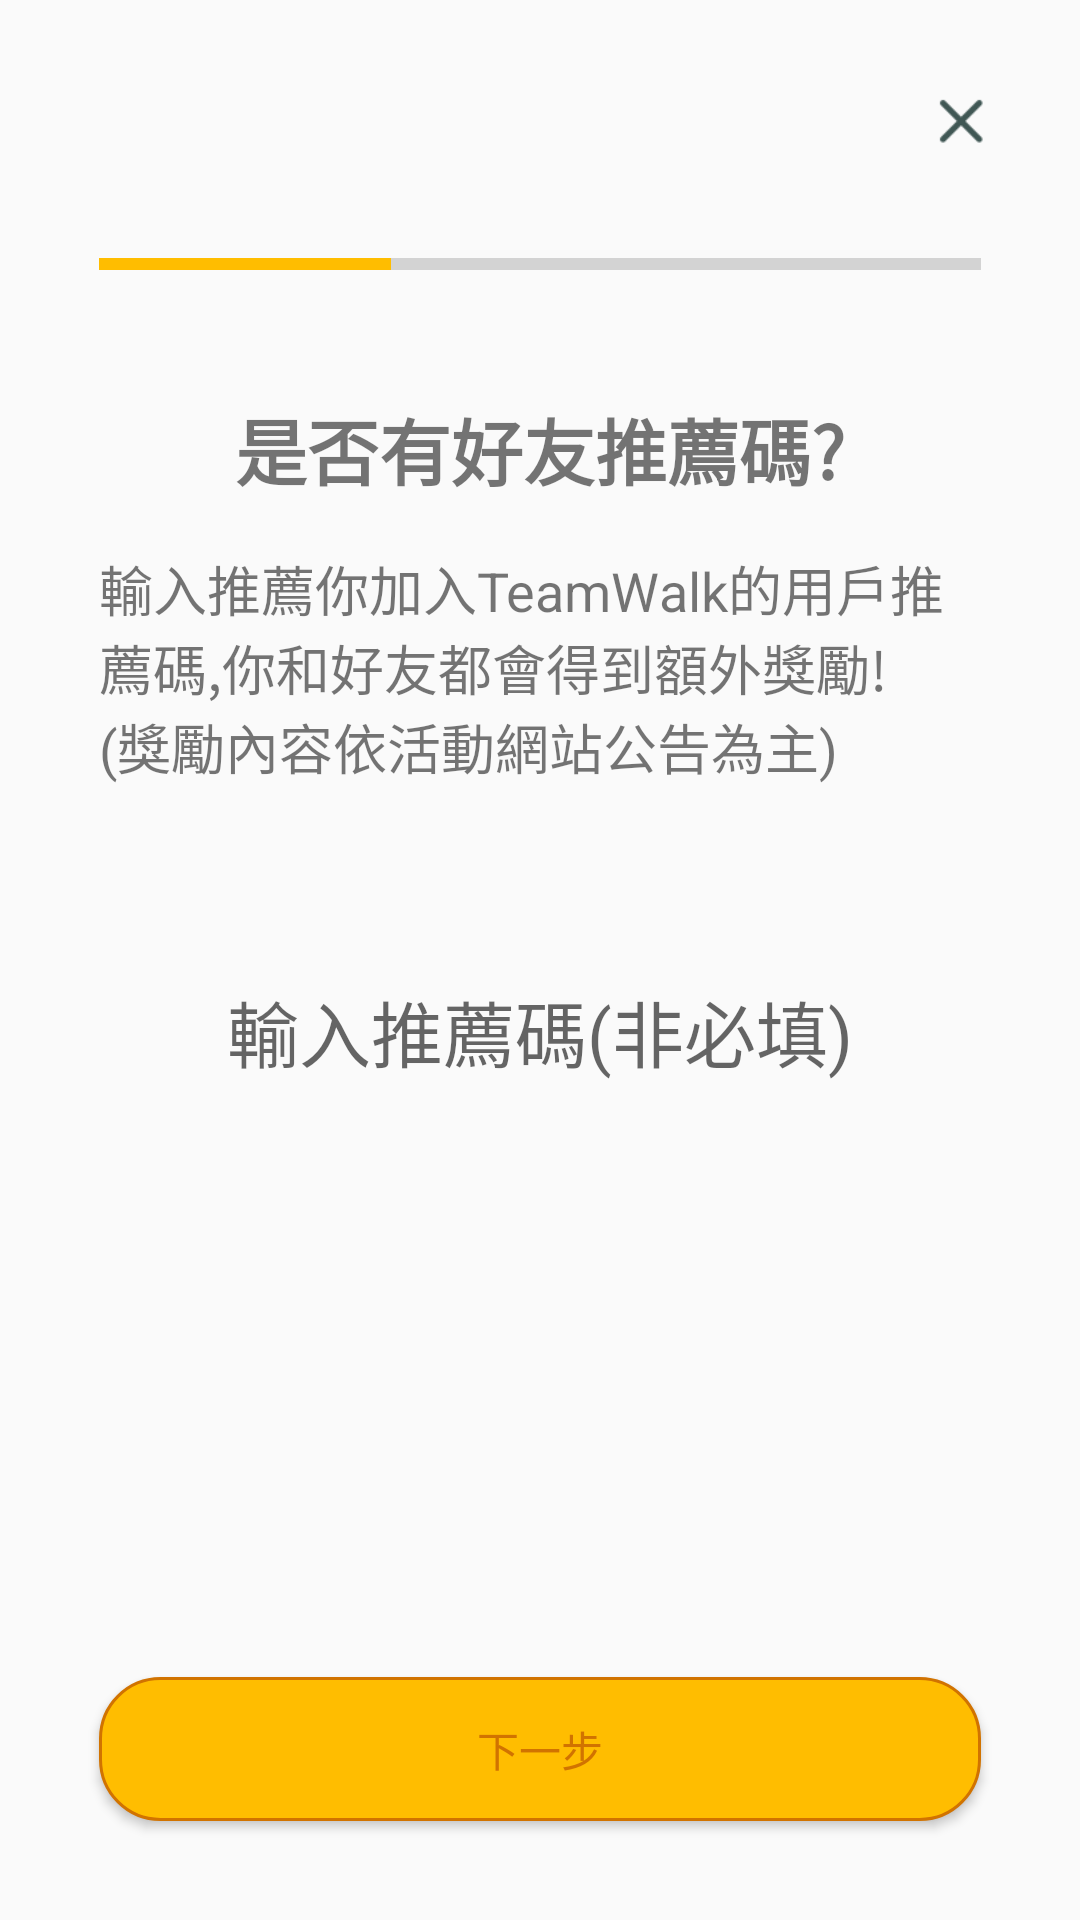

Where icons sit on this 1080px x 1920px app screen, as (x1, y1, x2, y2):
close: (940, 100, 983, 143)
